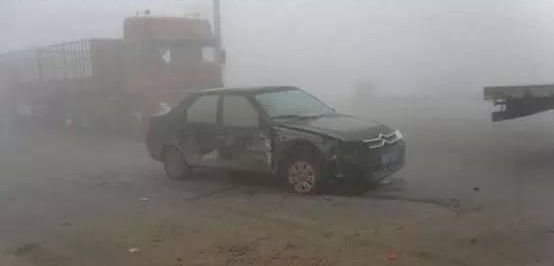bus: (1, 12, 227, 130)
car: (145, 82, 408, 194)
